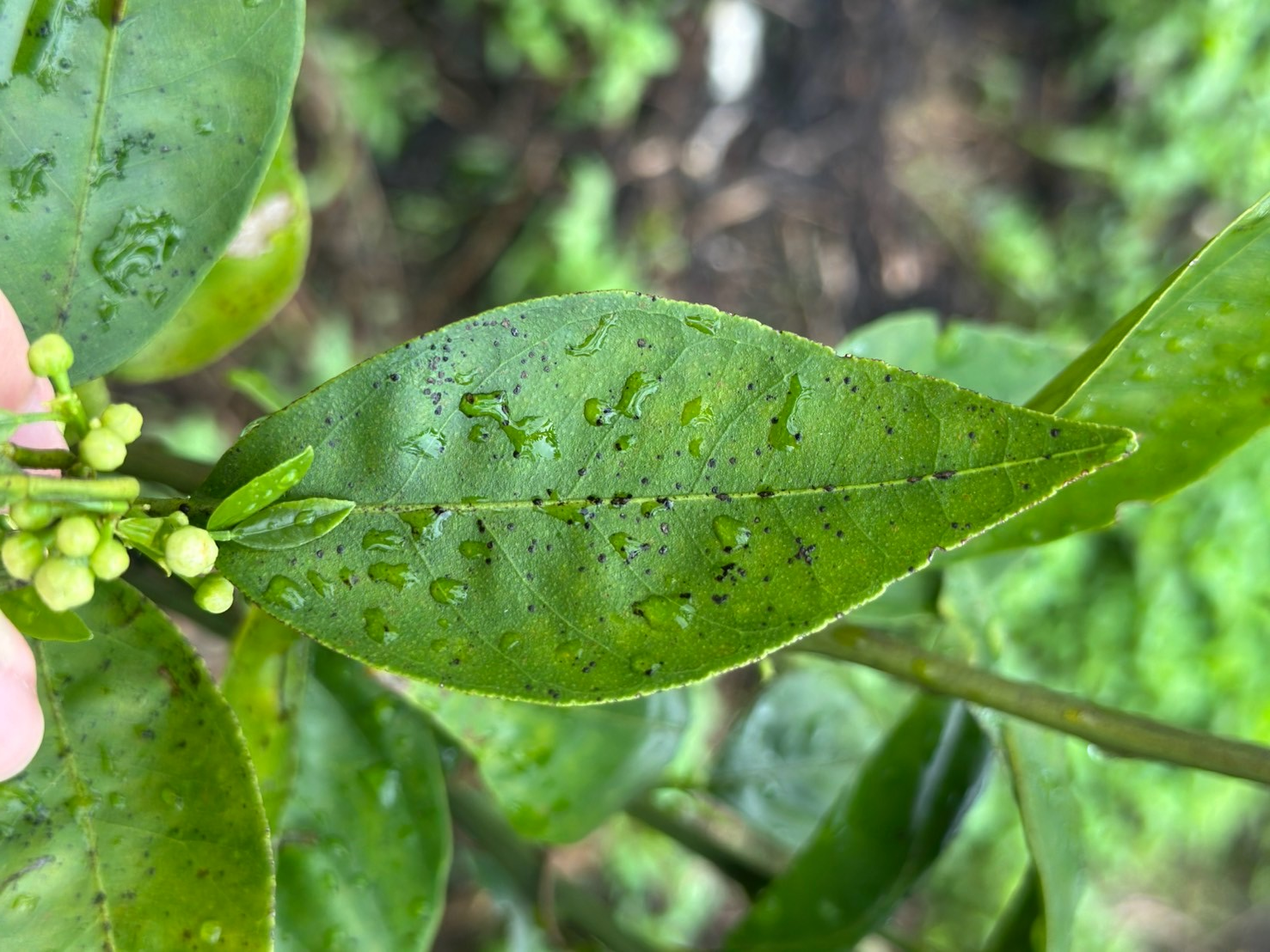Black_Spot: (191, 292, 1136, 704)
